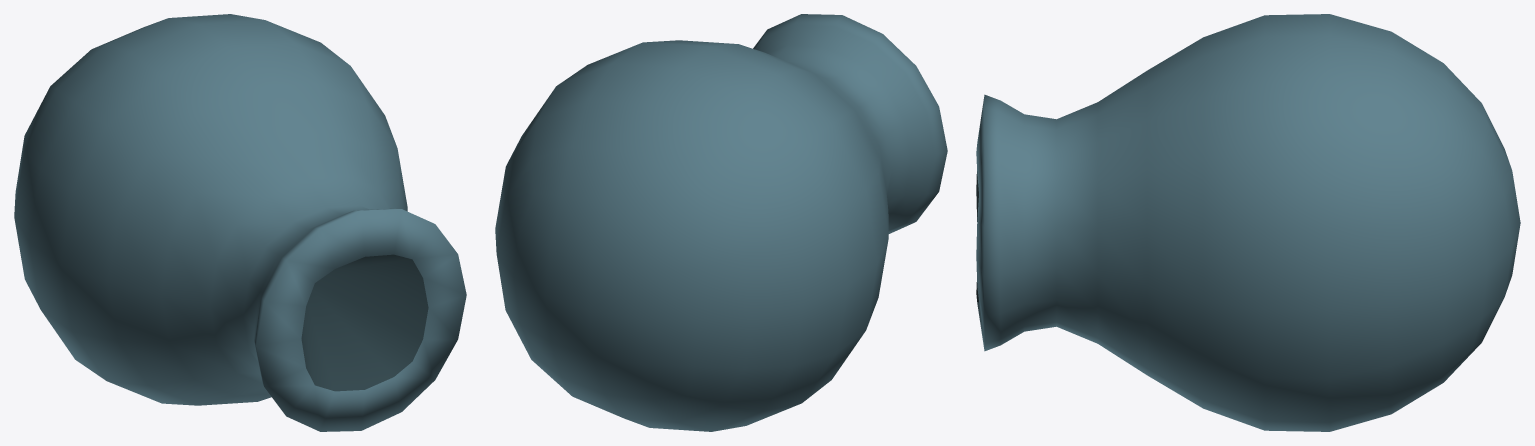
Rendered from mod_cannon.fbx.
The picture shows the model from 3 angles, left to right: view 1: azimuth 30°, elevation 25°; view 2: azimuth 150°, elevation 25°; view 3: azimuth 270°, elevation 25°; orthographic projection. The views are drawn at different scales.
Visible parts, largest first — view 1: Cube.003; view 2: Cube.003; view 3: Cube.003.
Part boxes in pixels (bbox=[...]): Cube.003: bbox=[14, 14, 466, 431]; Cube.003: bbox=[495, 14, 947, 431]; Cube.003: bbox=[976, 14, 1520, 431].
Bounding box in the file's own units: 295 × 295 × 389.
